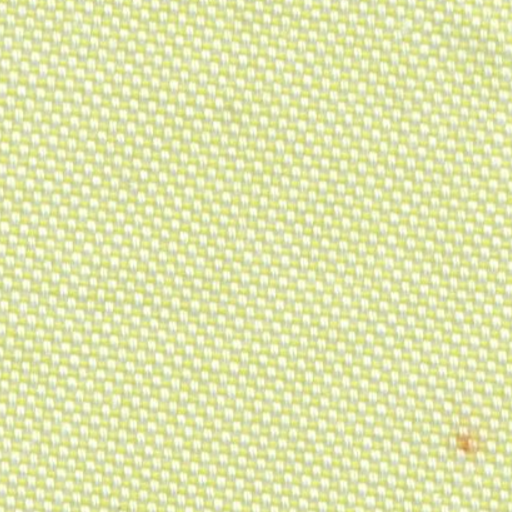WuZi: (440, 407, 496, 470)
